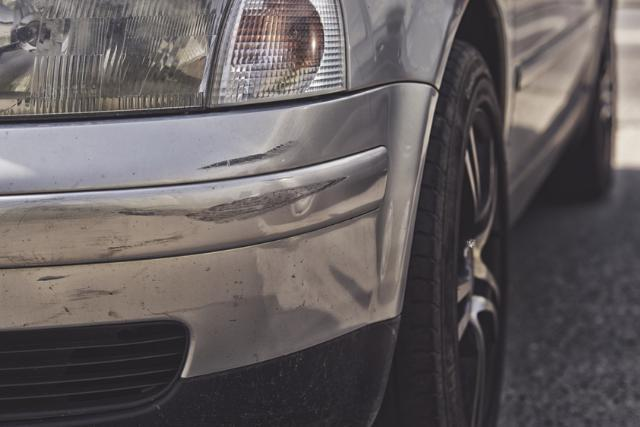Fender: (0, 124, 407, 373)
